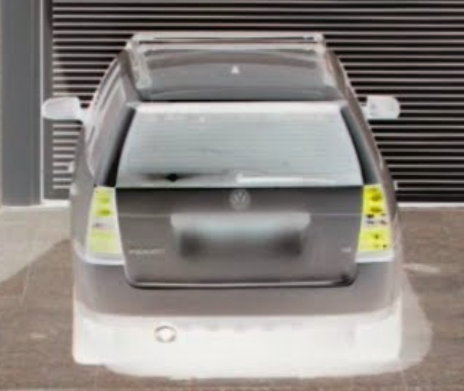car: (41, 35, 403, 382)
